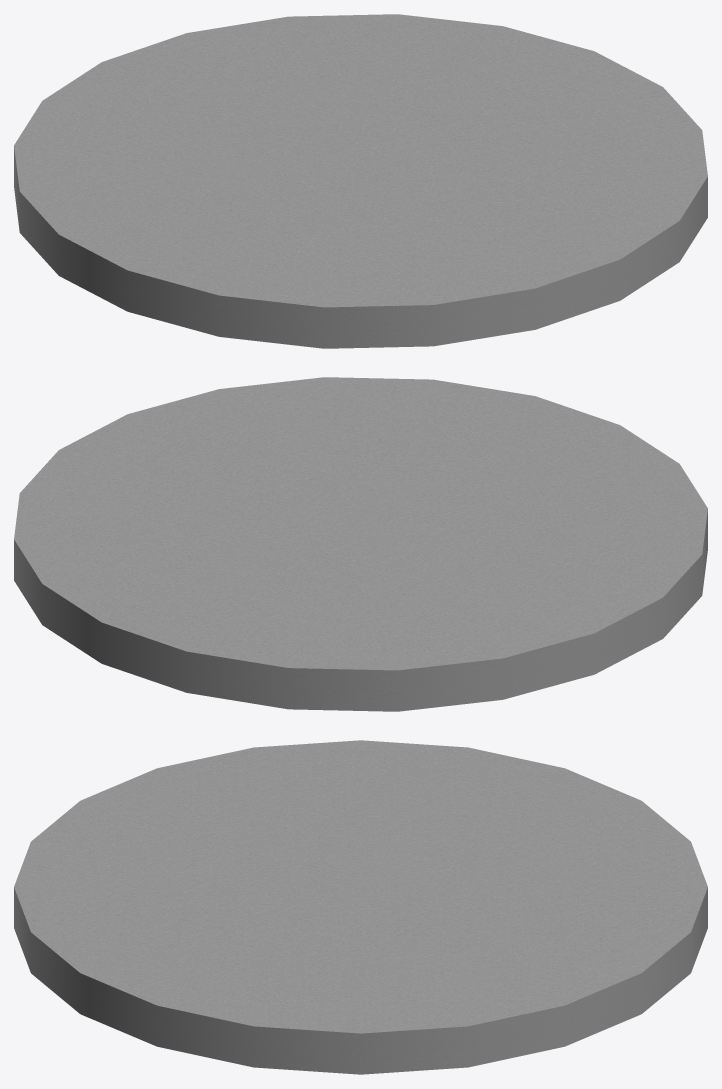
Rendered from Concrete_Slab_7.obj.
3 renders of one model, top to bottom at view 1: azimuth 30°, elevation 25°; view 2: azimuth 150°, elevation 25°; view 3: azimuth 270°, elevation 25°, orthographic.
Parts seen in each view (by area): view 1: ConcreteSlab; view 2: ConcreteSlab; view 3: ConcreteSlab.
Part boxes in pixels (x1,y1,x2,y2): ConcreteSlab: (14,14,707,348); ConcreteSlab: (14,377,707,711); ConcreteSlab: (14,740,707,1074).
Size of the model in its own units: 17.23 by 1.13 by 17.23.
Materials: 1 (1 with a texture image).
